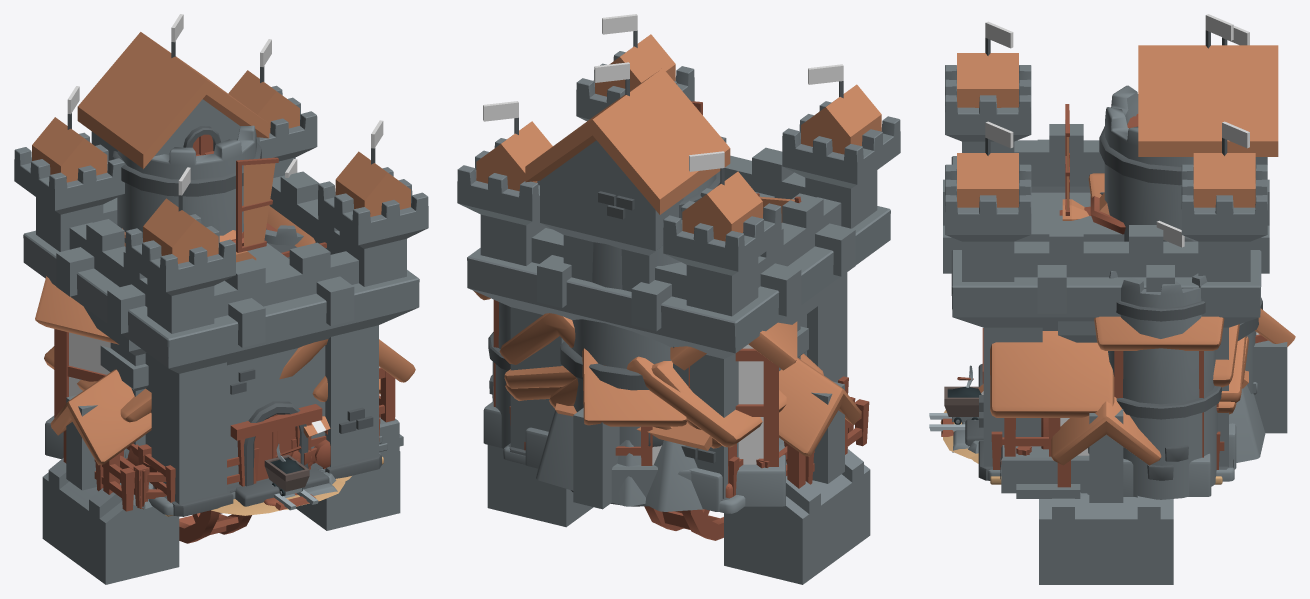
The model's file is buildings.glb.
The picture shows the model from 3 angles, left to right: view 1: azimuth 30°, elevation 25°; view 2: azimuth 150°, elevation 25°; view 3: azimuth 270°, elevation 25°; orthographic projection. The views are drawn at different scales.
Parts seen in each view (by area): view 1: castle, bridge, watchtower, barracks, bridge_roofed, mine, archeryrange, mill_blades, wall_gate, lumbermill, wall_straight, farm_plot (+4 smaller); view 2: castle, barracks, bridge, watchtower, mine, bridge_roofed, lumbermill, archeryrange, wall_corner, watermill, market, watermill_wheel (+3 smaller); view 3: castle, archeryrange, barracks, bridge, watchtower, mine, bridge_roofed, wall_corner, wall_straight, watermill, lumbermill, mill_blades (+4 smaller).
Boxes of the visible parts, <box> form: castle: <box>14,14,428,516</box>; bridge: <box>42,451,400,584</box>; watchtower: <box>112,125,266,242</box>; barracks: <box>35,223,303,511</box>; bridge_roofed: <box>50,369,380,494</box>; mine: <box>121,404,351,510</box>; archeryrange: <box>120,159,415,508</box>; mill_blades: <box>236,157,326,262</box>; wall_gate: <box>81,307,148,489</box>; lumbermill: <box>44,228,380,515</box>; wall_straight: <box>66,398,129,490</box>; farm_plot: <box>126,418,383,516</box>; castle: <box>457,14,900,500</box>; barracks: <box>488,302,869,506</box>; bridge: <box>487,445,870,584</box>; watchtower: <box>560,171,720,506</box>; mine: <box>536,410,847,511</box>; bridge_roofed: <box>779,357,861,488</box>; lumbermill: <box>504,353,823,507</box>; archeryrange: <box>474,291,855,511</box>; wall_corner: <box>573,393,827,509</box>; watermill: <box>499,313,575,364</box>; market: <box>503,361,745,513</box>; watermill_wheel: <box>644,506,723,540</box>; castle: <box>943,14,1278,480</box>; archeryrange: <box>968,220,1248,496</box>; barracks: <box>1108,271,1295,499</box>; bridge: <box>1039,494,1173,584</box>; watchtower: <box>1099,85,1262,393</box>; mine: <box>929,328,1265,463</box>; bridge_roofed: <box>1051,397,1161,487</box>; wall_corner: <box>1253,340,1287,433</box>; wall_straight: <box>1088,410,1123,502</box>; watermill: <box>1016,324,1239,498</box>; lumbermill: <box>952,173,1246,496</box>; mill_blades: <box>1062,104,1089,220</box>.
Bounding box in the file's own units: 2.09 × 3.09 × 2.02.
